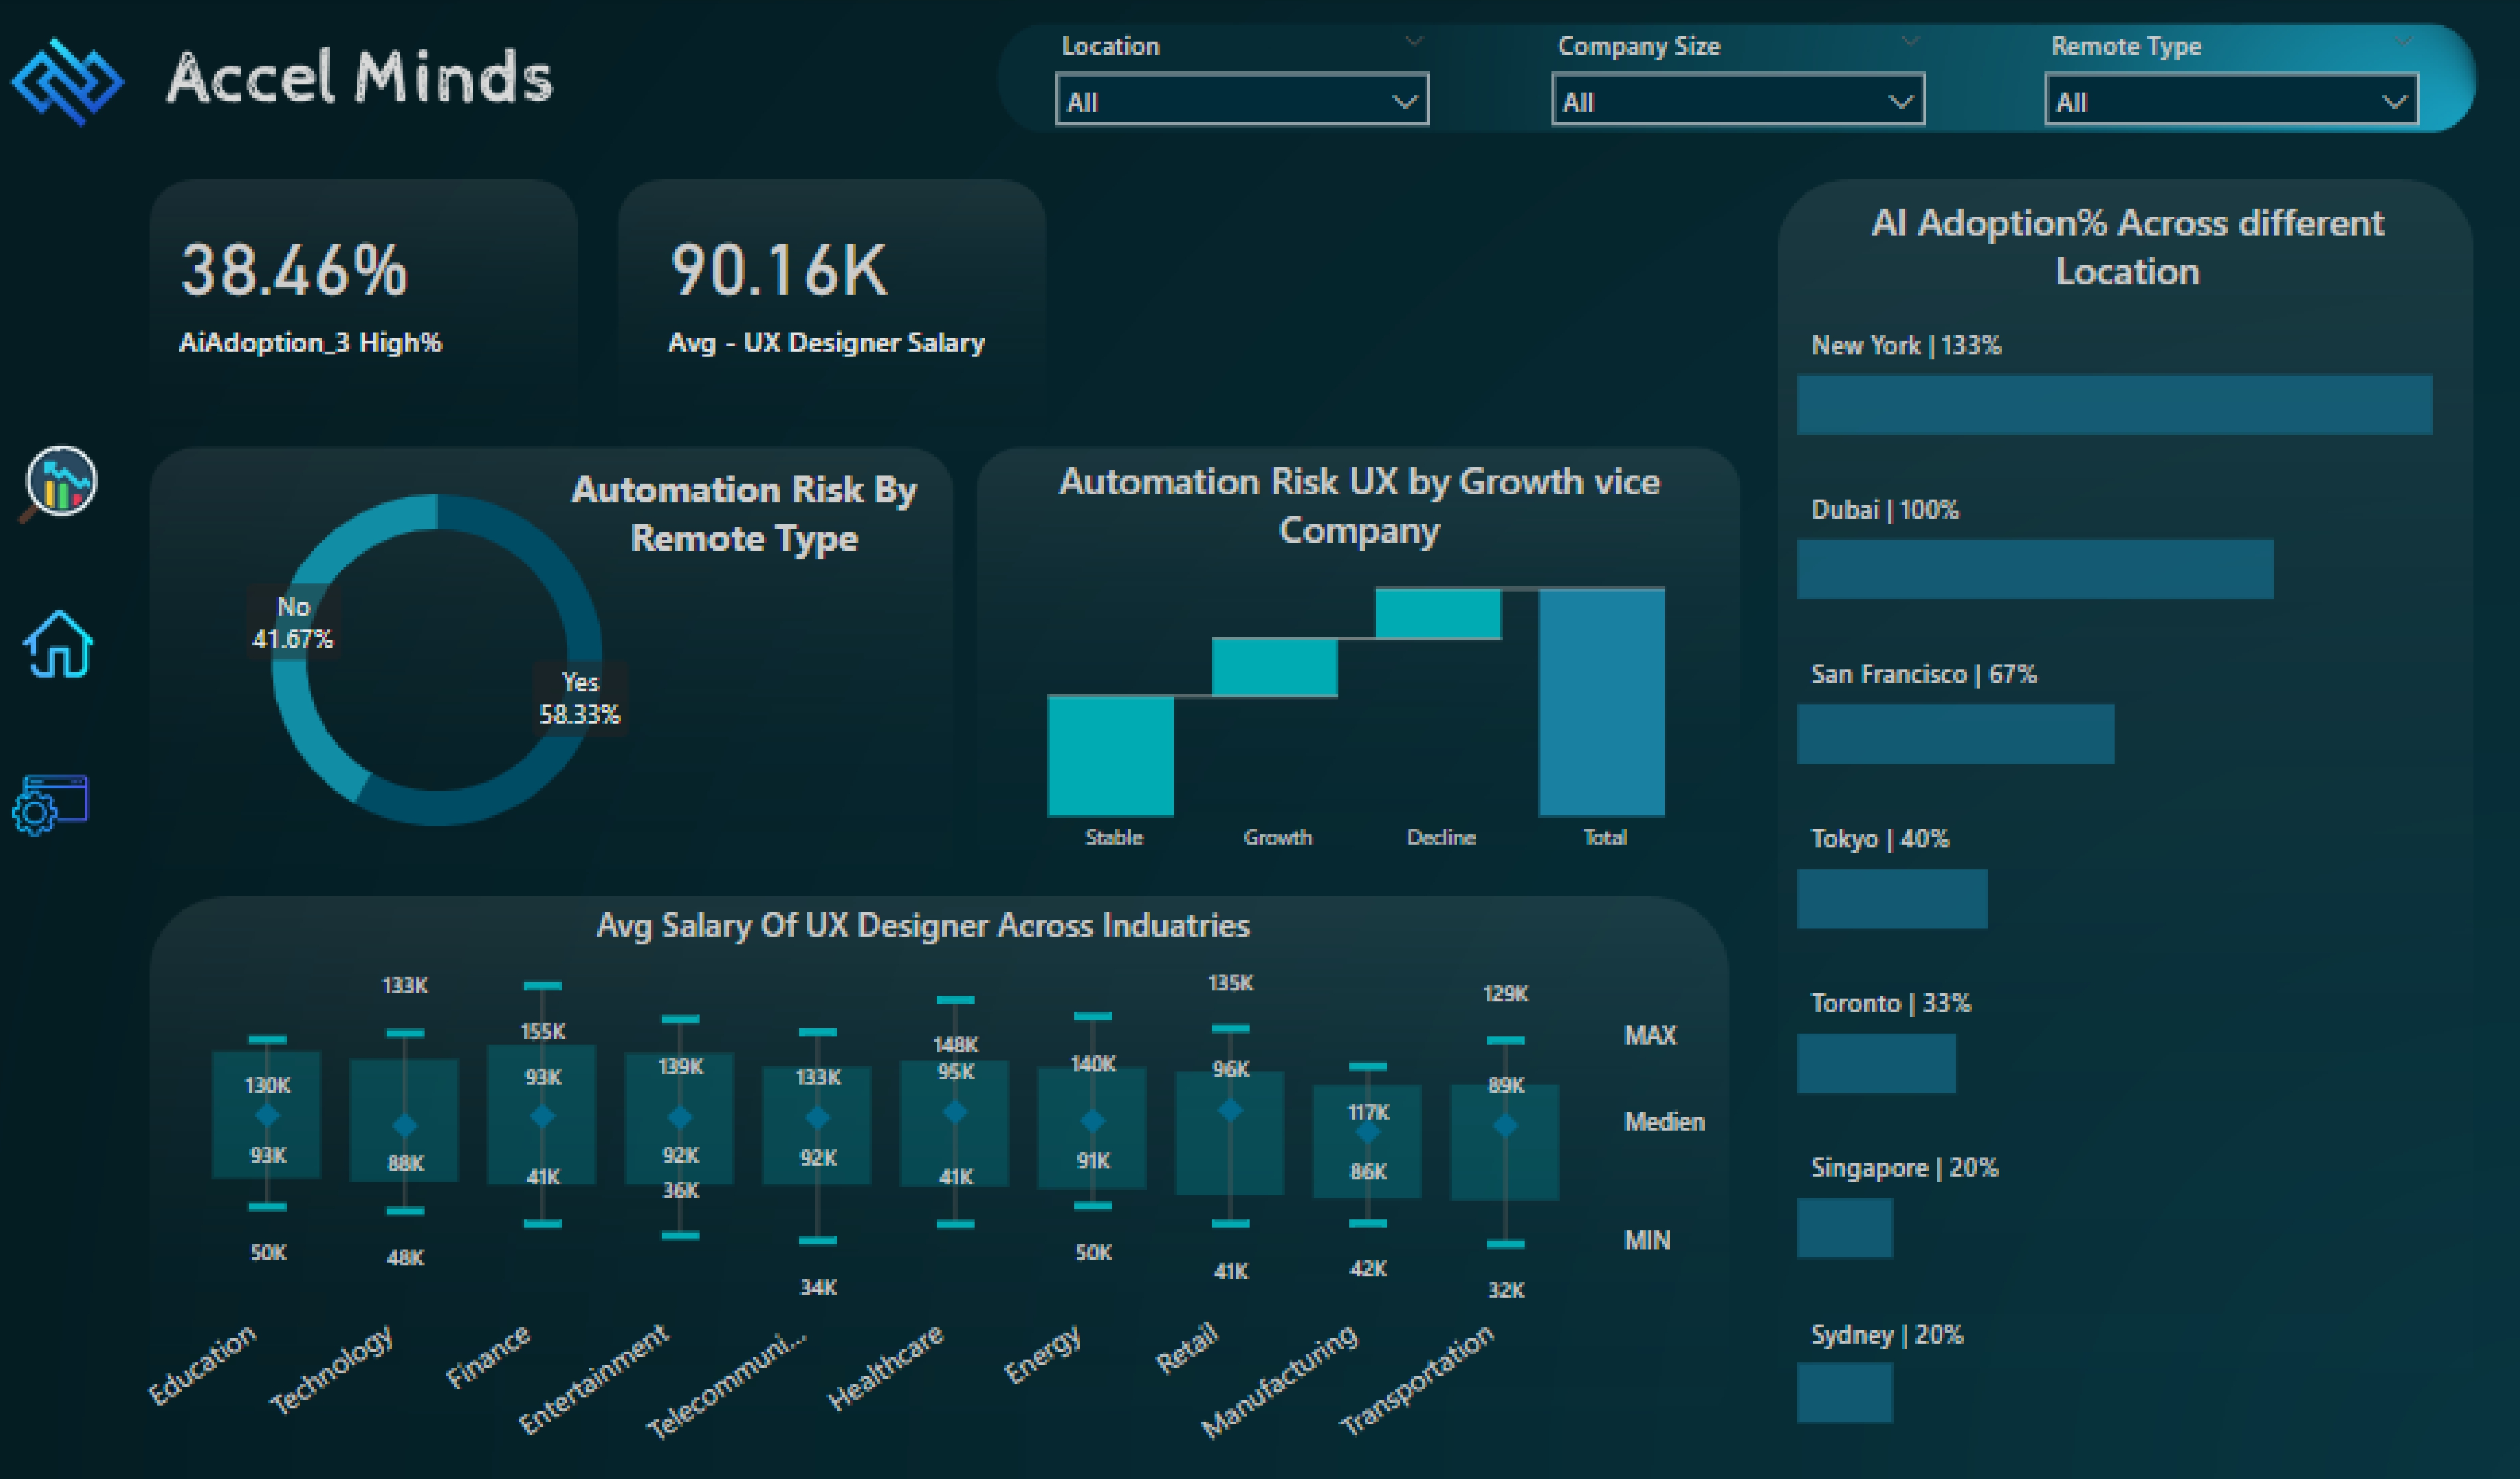

What the dashboard file says about the page in this screenshot:
{"tool":"powerbi","page":{"name":"UX Designer","canvas":[1471,864],"ordinal":3},"visuals":[{"type":"slicer","fields":{"Values":["ai_job_market_insights.Remote_Friendly"]},"box":[1177.8,13.6,233.8,71.4],"z":0,"group":"g1"},{"type":"waterfallChart","title":"Automation Risk  UX by Growth vice Company","fields":{"Category":["ai_job_market_insights.Job_Growth_Projection"],"Y":["Measure - UX Designer.Automation - Risk - UX"]},"box":[571.5,265.3,442.2,238.1],"z":0},{"type":"slicer","fields":{"Values":["ai_job_market_insights.Company_Size"]},"box":[894.3,13.6,233.8,71.4],"z":1000,"group":"g1"},{"type":"donutChart","fields":{"Category":["ai_job_market_insights.Remote_Friendly"],"Y":["Measure - Software engineer.Automation - Risk - SE"]},"box":[85,244.9,355.5,277.2],"z":1000},{"type":"slicer","fields":{"Values":["ai_job_market_insights.Location"]},"box":[608.9,13.6,233.8,71.4],"z":2000,"group":"g1"},{"type":"lineStackedColumnComboChart","title":"Avg Salary Of  UX Designer Across Induatries","fields":{"Y2":["BoxPlot - Measure.MAX","BoxPlot - Measure.Mean","BoxPlot - Measure.MIN"],"Y":["BoxPlot - Measure.Percantile_25","BoxPlot - Measure.Percantile_75"],"Category":["ai_job_market_insights.Industry"]},"box":[85,522.1,913.3,328.3],"z":2000},{"type":"clusteredBarChart","title":"AI Adoption% Across different  Location","fields":{"Category":["ai_job_market_insights.Location"],"Y":["Measure - UX Designer.Place holder","Measure - UX Designer.AiAdoption_3 High%"]},"box":[1039.2,115.7,389.5,712.6],"z":3000},{"type":"cardVisual","fields":{"Data":["Measure - UX Designer.AiAdoption_3 High%","Measure - UX Designer.Avg - UX Designer Salary"]},"box":[96.9,107.1,564.7,129.3],"z":4000},{"type":"textbox","box":[335.1,265.3,209.2,79.9],"z":5000},{"type":"group","id":"g1","title":"Group 2","box":[608.9,13.6,802.8,71.4],"z":6000},{"type":"actionButton","box":[20.4,255.1,52.7,52.7],"z":7000},{"type":"actionButton","box":[20.4,350.4,52.7,52.7],"z":8000},{"type":"actionButton","box":[15.3,440.5,52.7,52.7],"z":9000}]}

Visuals, with their boxes in screenshot pixels (x1, y1, x2, y2), scaled from the page's 1471x864 canvas onto the 2520x1479 screenshot:
slicer - ai_job_market_insights.Remote_Friendly: x1=2018, y1=23, x2=2418, y2=146
"Automation Risk  UX by Growth vice Company" waterfallChart: x1=979, y1=454, x2=1737, y2=862
slicer - ai_job_market_insights.Company_Size: x1=1532, y1=23, x2=1933, y2=146
donutChart - ai_job_market_insights.Remote_Friendly x Measure - Software engineer.Automation - Risk - SE: x1=146, y1=419, x2=754, y2=894
slicer - ai_job_market_insights.Location: x1=1043, y1=23, x2=1444, y2=146
"Avg Salary Of  UX Designer Across Induatries" lineStackedColumnComboChart: x1=146, y1=894, x2=1710, y2=1456
"AI Adoption% Across different  Location" clusteredBarChart: x1=1780, y1=198, x2=2448, y2=1418
cardVisual - Measure - UX Designer.AiAdoption_3 High% x Measure - UX Designer.Avg - UX Designer Salary: x1=166, y1=184, x2=1133, y2=405
textbox: x1=574, y1=454, x2=932, y2=591
"Group 2" group: x1=1043, y1=23, x2=2419, y2=146
actionButton: x1=35, y1=437, x2=125, y2=527
actionButton: x1=35, y1=600, x2=125, y2=690
actionButton: x1=26, y1=754, x2=117, y2=844
